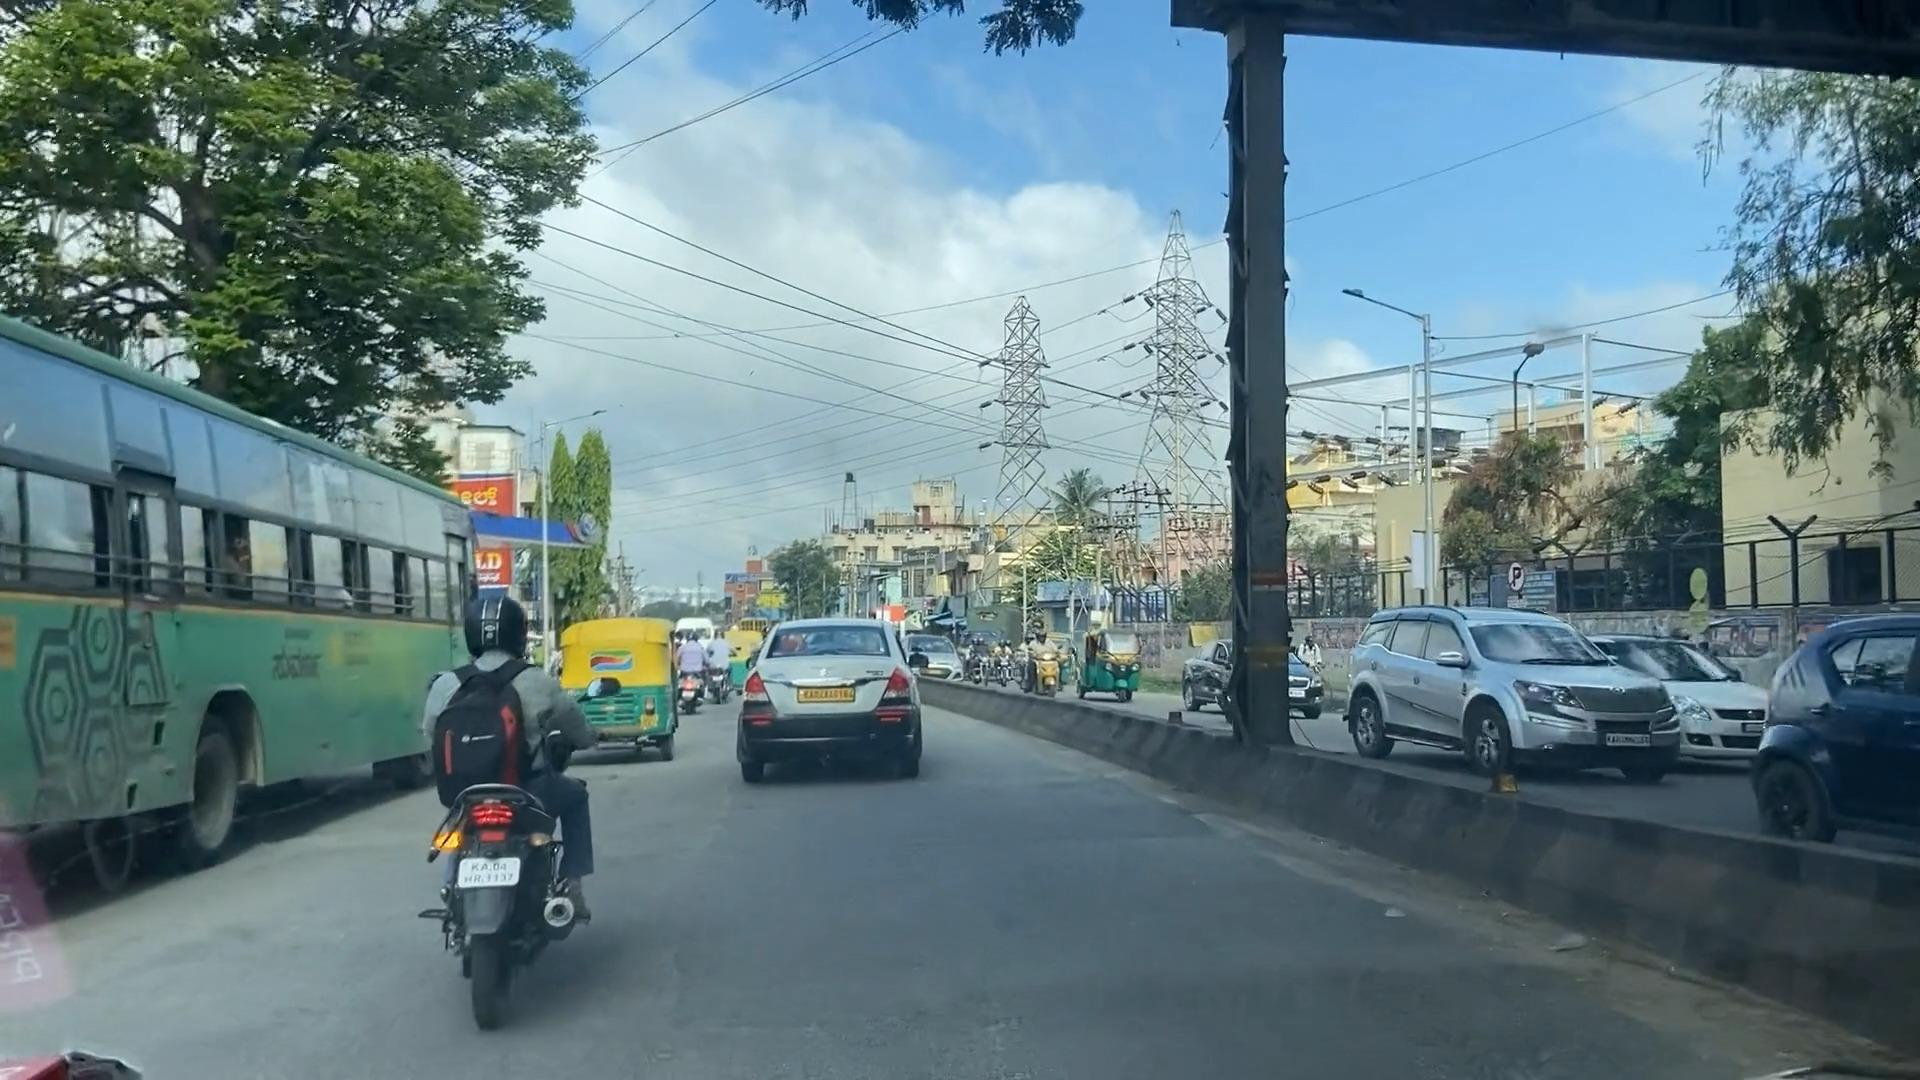LMV: (430, 600, 589, 982), (736, 607, 920, 779)
